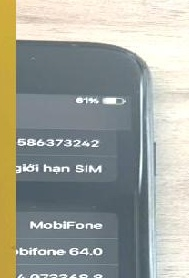scratch: (21, 37, 138, 70)
